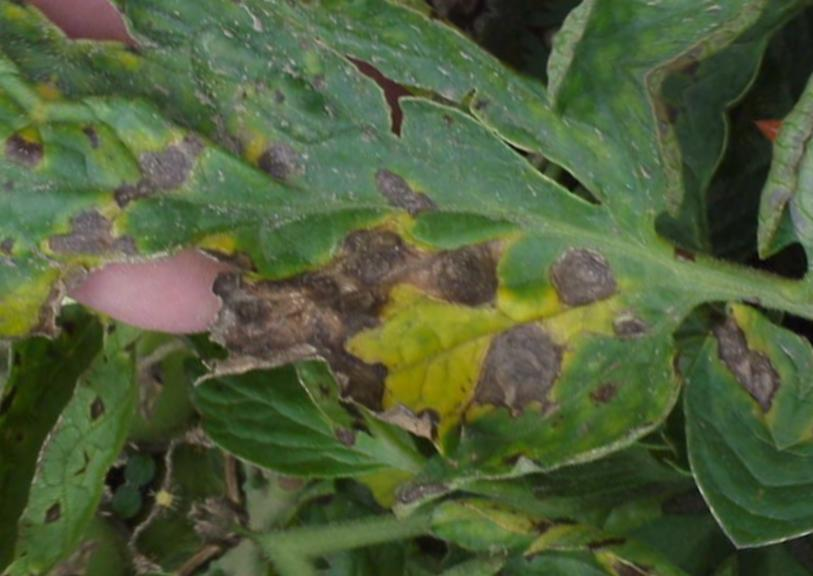Tomato Early blight leaf: (0, 0, 810, 560)
